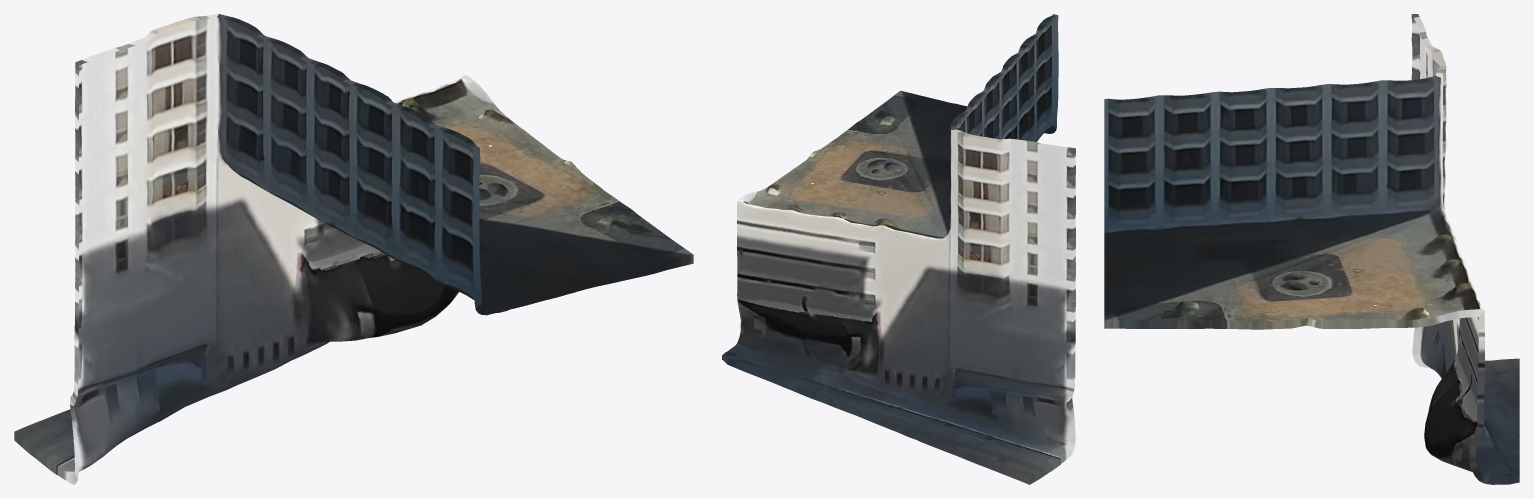
File: z20-167747-405242-h0-yup-uvflip-v3-world.glb
3 views of the same model, side by side, from view 1: azimuth 30°, elevation 25°; view 2: azimuth 150°, elevation 25°; view 3: azimuth 270°, elevation 25° (orthographic). The views are drawn at different scales.
Bounding box in the file's own units: 30.16 × 28.6 × 30.32.
1 material, 1 textured.
